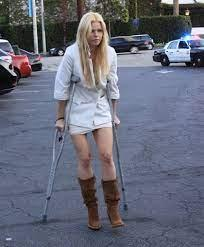crutches: (41, 12, 130, 231)
